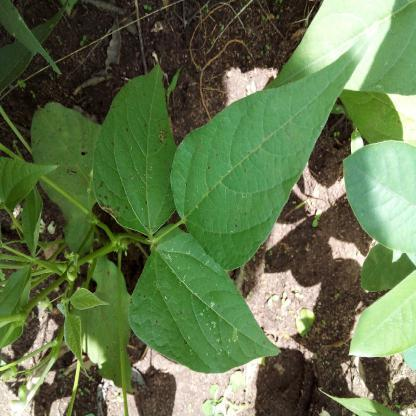Beans_Angular_LeafSpot: (168, 38, 356, 274), (132, 230, 276, 392), (92, 65, 182, 232)
